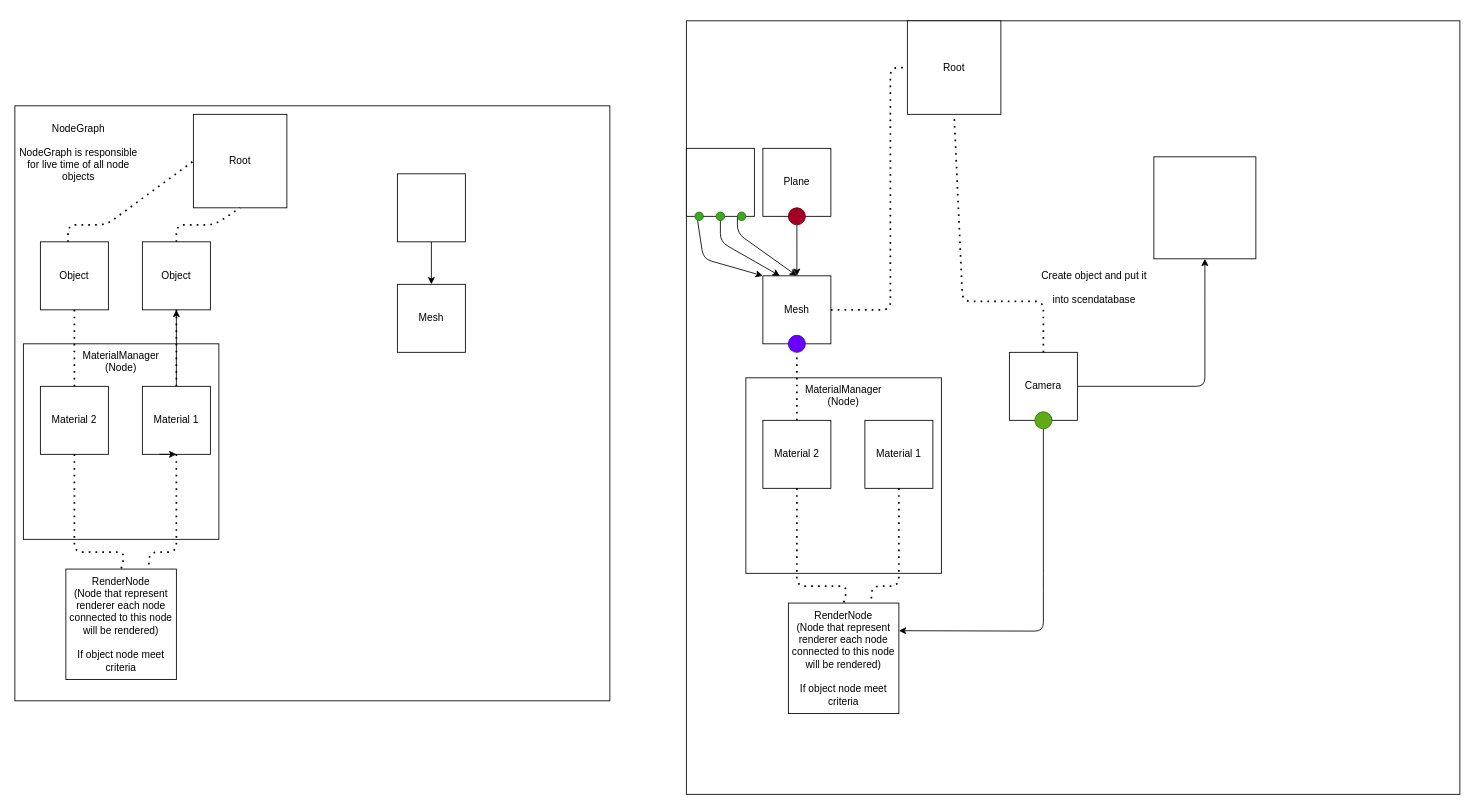
This 1475x809 diagram has some shape labels left out. The centre of each missing label's shape, as x and y in pixels:
SceneDataBase: point 1204,207
Sphere (Node): point 431,207
Transform: point 720,181
